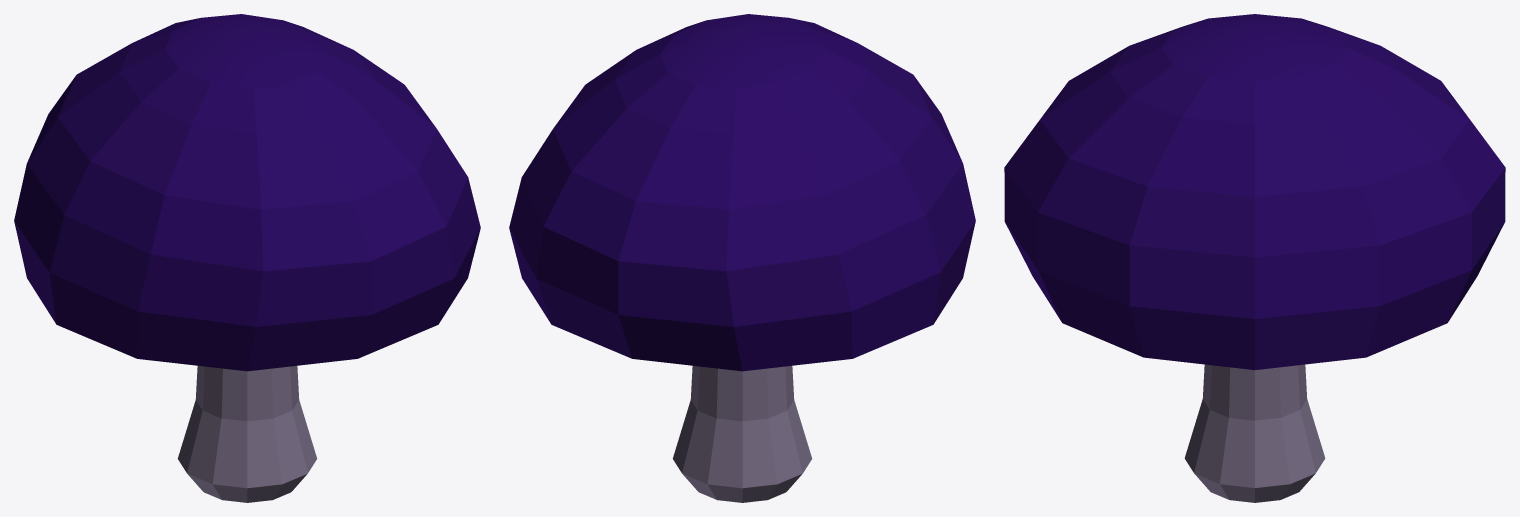
File: mushroom2.fbx
The picture shows the model from 3 angles, left to right: view 1: azimuth 30°, elevation 25°; view 2: azimuth 150°, elevation 25°; view 3: azimuth 270°, elevation 25°; orthographic projection.
Parts seen in each view (by area): view 1: mushroom2, stalk2; view 2: mushroom2, stalk2; view 3: mushroom2, stalk2.
Boxes of the visible parts, x1,y1,x2,y2 form: mushroom2: (14,14,480,371); stalk2: (177,366,317,502); mushroom2: (509,14,975,371); stalk2: (672,366,812,502); mushroom2: (1004,14,1505,369); stalk2: (1184,364,1325,502).
Bounding box in the file's own units: 45.1 × 49.13 × 49.
